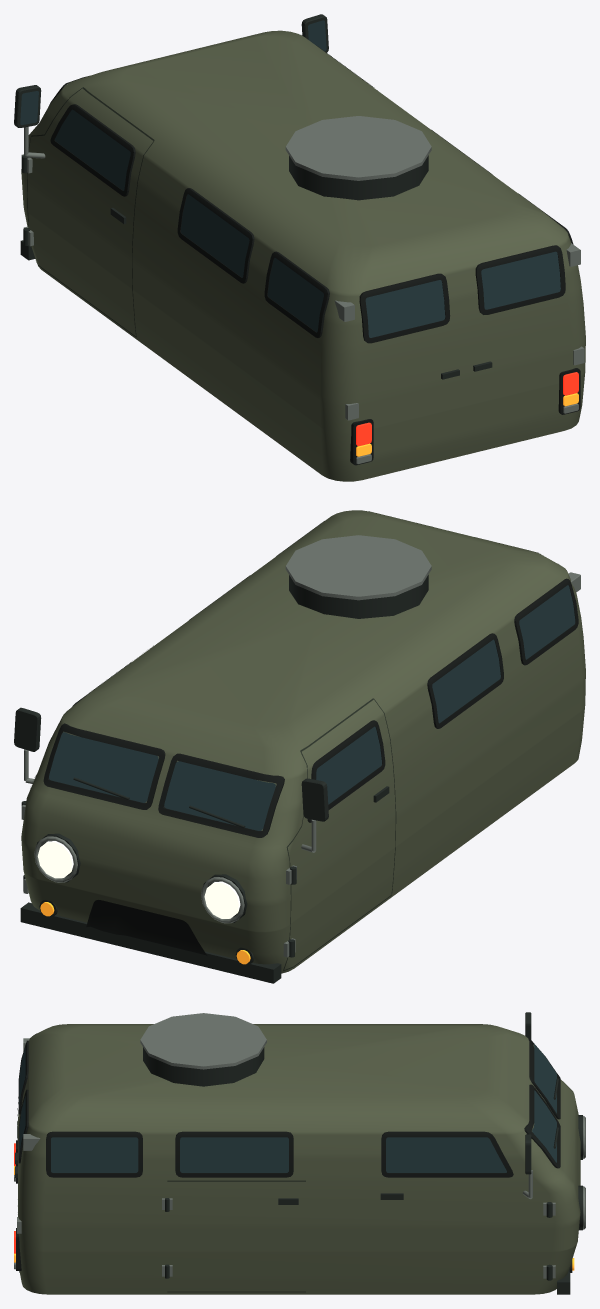
3 renders of one model, top to bottom at view 1: azimuth 30°, elevation 25°; view 2: azimuth 150°, elevation 25°; view 3: azimuth 270°, elevation 25°, orthographic. The views are drawn at different scales.
Visible parts, largest first — view 1: B01_surface_00, B01_surface_05, B01_surface_06, B01_surface_04, B01_surface_02, B01_surface_03, B01_surface_09, B01_surface_10; view 2: B01_surface_00, B01_surface_05, B01_surface_04, B01_surface_02, B01_surface_06, B01_surface_07, B01_surface_09; view 3: B01_surface_00, B01_surface_05, B01_surface_04, B01_surface_06, B01_surface_02, B01_surface_09.
Part boxes in pixels (x1=…): B01_surface_00: x1=21, y1=30, x2=585, y2=481; B01_surface_05: x1=55, y1=109, x2=560, y2=337; B01_surface_06: x1=21, y1=116, x2=584, y2=464; B01_surface_04: x1=48, y1=46, x2=580, y2=465; B01_surface_02: x1=14, y1=14, x2=492, y2=379; B01_surface_03: x1=20, y1=20, x2=326, y2=124; B01_surface_09: x1=27, y1=35, x2=377, y2=337; B01_surface_10: x1=356, y1=372, x2=578, y2=446; B01_surface_00: x1=21, y1=510, x2=585, y2=973; B01_surface_05: x1=49, y1=585, x2=575, y2=830; B01_surface_04: x1=43, y1=521, x2=578, y2=955; B01_surface_02: x1=14, y1=575, x2=428, y2=983; B01_surface_06: x1=21, y1=535, x2=580, y2=957; B01_surface_07: x1=37, y1=841, x2=240, y2=918; B01_surface_09: x1=30, y1=511, x2=566, y2=970; B01_surface_00: x1=18, y1=1024, x2=580, y2=1294; B01_surface_05: x1=19, y1=1043, x2=556, y2=1172; B01_surface_04: x1=16, y1=1035, x2=560, y2=1270; B01_surface_06: x1=14, y1=1013, x2=585, y2=1278; B01_surface_02: x1=15, y1=1012, x2=582, y2=1294; B01_surface_09: x1=17, y1=1033, x2=305, y2=1292.
Bounding box in the file's own units: 2.32 × 1.65 × 4.25.
